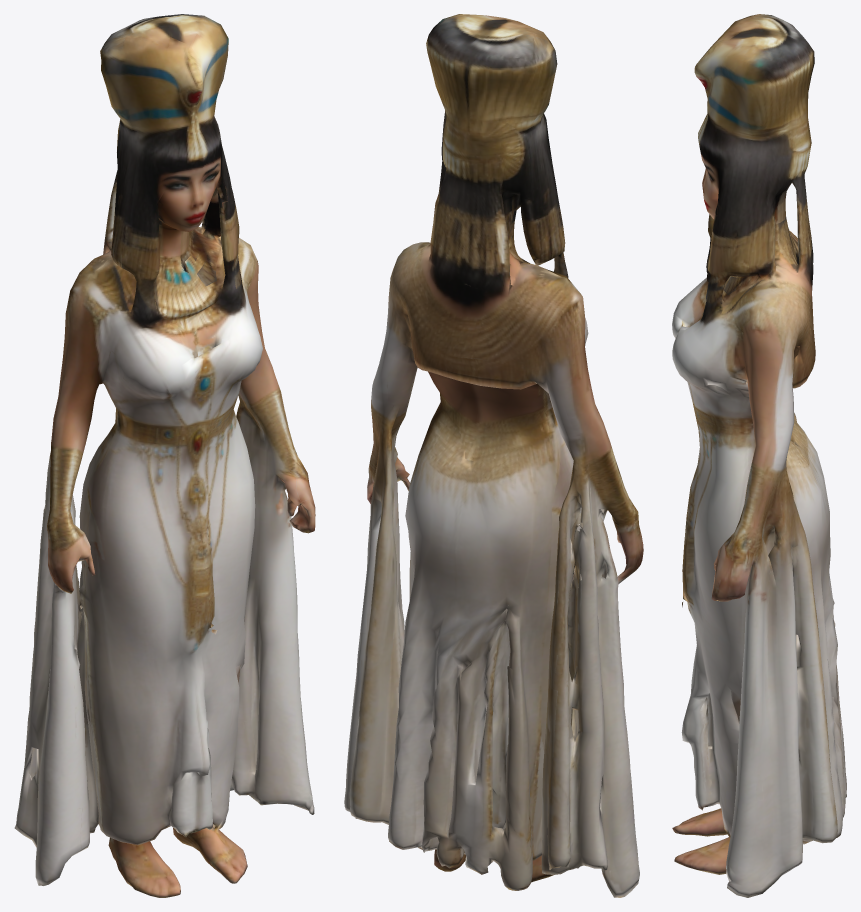
File: cleopatra_-_egyptian_queen.glb
The picture shows the model from 3 angles, left to right: view 1: azimuth 30°, elevation 25°; view 2: azimuth 150°, elevation 25°; view 3: azimuth 270°, elevation 25°; orthographic projection. The views are drawn at different scales.
Visible parts, largest first — view 1: Mesh1_Mesh1.132; view 2: Mesh1_Mesh1.132; view 3: Mesh1_Mesh1.132.
Part boxes in pixels (x1,y1,x2,y2): Mesh1_Mesh1.132: [14, 14, 315, 897]; Mesh1_Mesh1.132: [344, 14, 643, 897]; Mesh1_Mesh1.132: [672, 14, 846, 897].
Size of the model in its own units: 0.6813 by 2 by 0.3863.
1 material, 1 textured.
